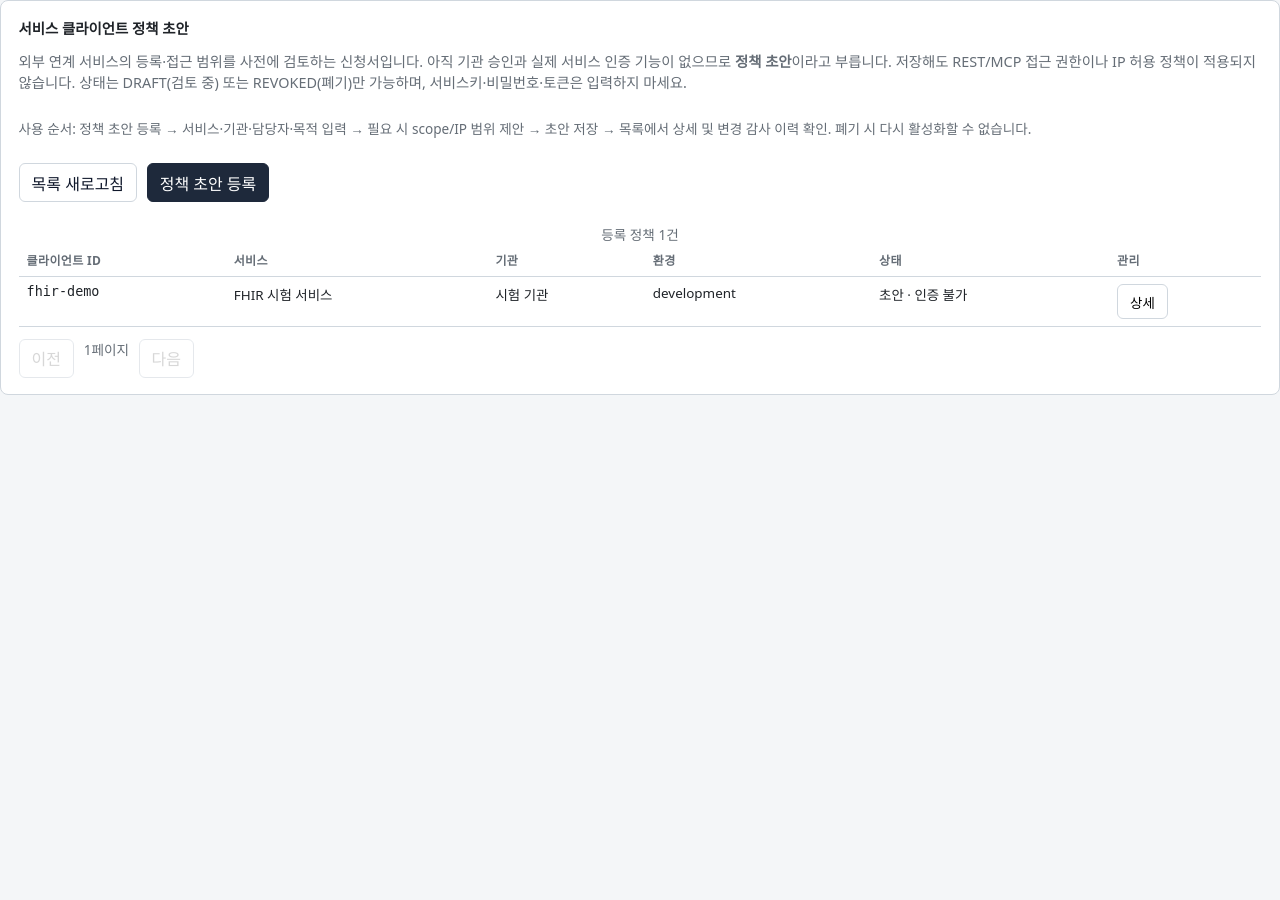
Test: M5-S1B service client draft administration › shows draft-only status, detail and audit without an activation or credential action
Expected: the text "초안 · 인증 불가" is shown, [871,276,1109,327]
Click the button with aria-label "fhir-demo 상세".
click(1142, 302)  # box [1117,284,1168,319]
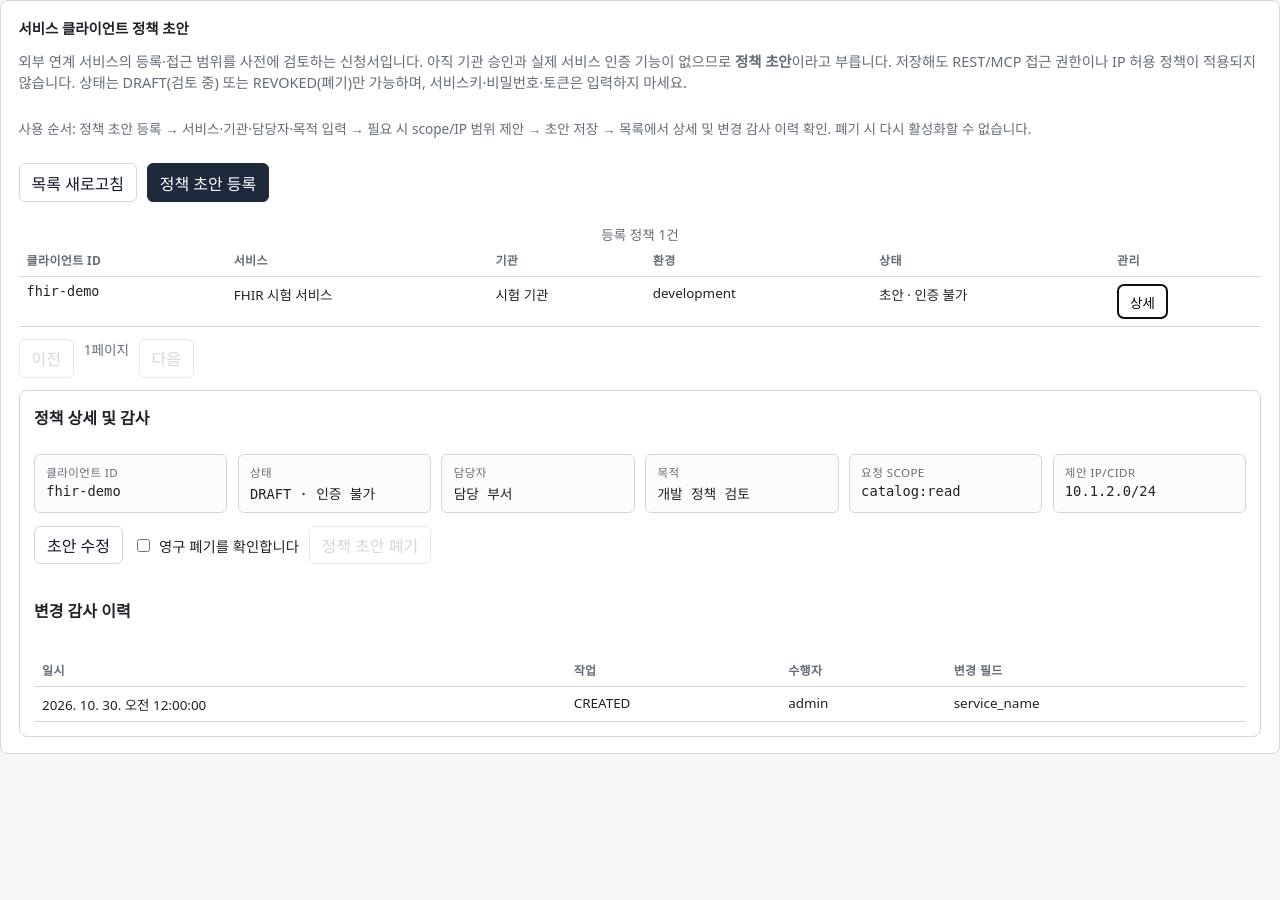
Expected: the text "DRAFT · 인증 불가" is shown, [250,486,375,502]
Expected: the text "CREATED" is shown, [566,686,780,722]
